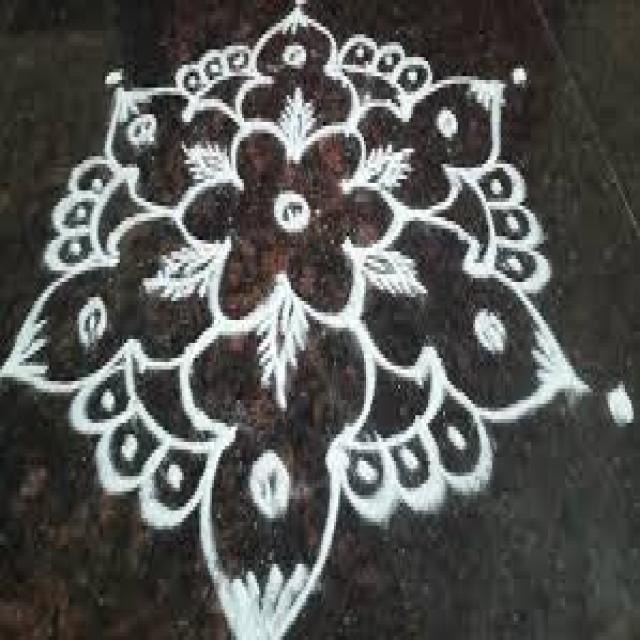rangoli: (0, 15, 594, 640)
